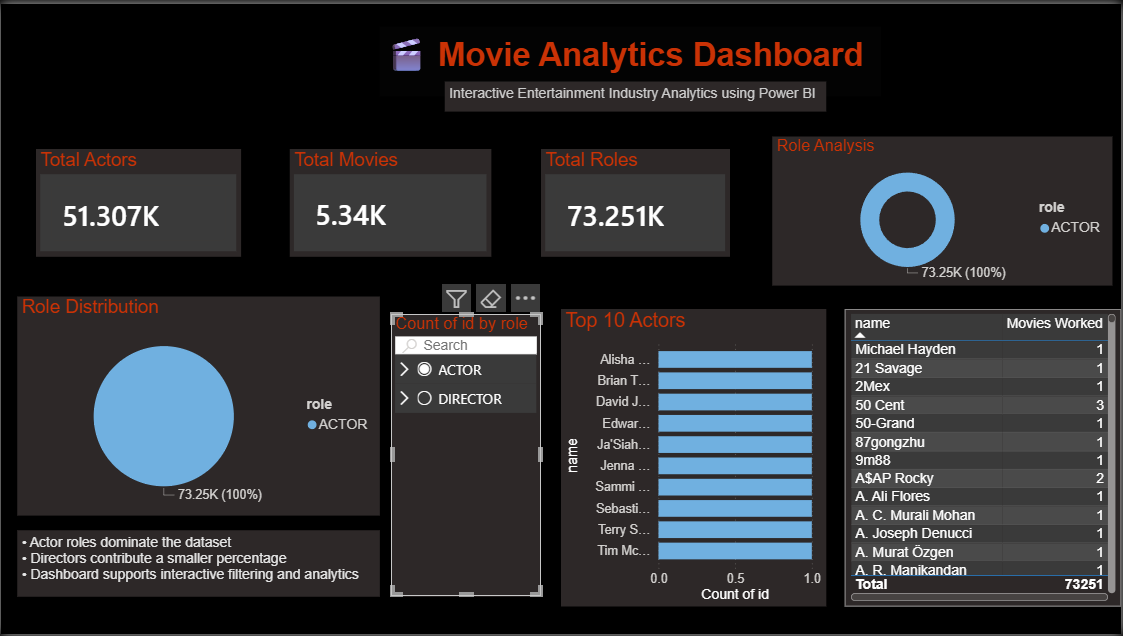

Layout of this report page (visuals, bound fields, positions):
{"tool":"powerbi","page":{"name":"Page 1","canvas":[1280,720],"ordinal":0},"visuals":[{"type":"cardVisual","title":"Total Actors","fields":{"Data":["Count(credits.name)"]},"box":[60,145.7,287.1,122.9],"z":0},{"type":"cardVisual","title":"Total Movies","fields":{"Data":["Count(credits.id)"]},"box":[432.9,145.7,288.6,122.9],"z":1000},{"type":"cardVisual","title":"Total Roles","fields":{"Data":["CountNonNull(credits.role)"]},"box":[802.9,145.7,274.3,122.9],"z":2000},{"type":"pieChart","title":"Role Distribution","fields":{"Category":["credits.role"],"Y":["CountNonNull(credits.role)"]},"box":[18.6,321.4,400,250],"z":3000},{"type":"listSlicer","fields":{"Values":["credits.role","credits.name"]},"box":[445.7,338.6,194.3,322.9],"z":4000},{"type":"clusteredBarChart","title":"Top 10 Actors","fields":{"Y":["CountNonNull(credits.id)"],"Category":["credits.name"]},"box":[662.9,321.4,280,340],"z":5000},{"type":"textbox","box":[432.5,26.2,572.5,80],"z":6000},{"type":"donutChart","title":"Role Analysis","fields":{"Category":["credits.role"],"Y":["CountNonNull(credits.role)"]},"box":[1087,104.5,193,150],"z":7000},{"type":"tableEx","title":"Movies Worked","fields":{"Values":["credits.name","credits.id"]},"box":[964.3,321.4,315.7,340],"z":8000},{"type":"textbox","box":[18.6,601.4,400,75.7],"z":8001},{"type":"textbox","box":[507.1,88.6,435.7,34.3],"z":8002}]}

Visuals, with their boxes in screenshot pixels (x1, y1, x2, y2), scaled from the page's 1280x720 canvas onto the 1123x636 screenshot:
"Total Actors" cardVisual: locate(53, 129, 305, 237)
"Total Movies" cardVisual: locate(380, 129, 633, 237)
"Total Roles" cardVisual: locate(704, 129, 945, 237)
"Role Distribution" pieChart: locate(16, 284, 367, 505)
listSlicer - credits.role x credits.name: locate(391, 299, 562, 584)
"Top 10 Actors" clusteredBarChart: locate(582, 284, 827, 584)
textbox: locate(379, 23, 882, 94)
"Role Analysis" donutChart: locate(954, 92, 1122, 225)
"Movies Worked" tableEx: locate(846, 284, 1122, 584)
textbox: locate(16, 531, 367, 598)
textbox: locate(445, 78, 827, 109)
